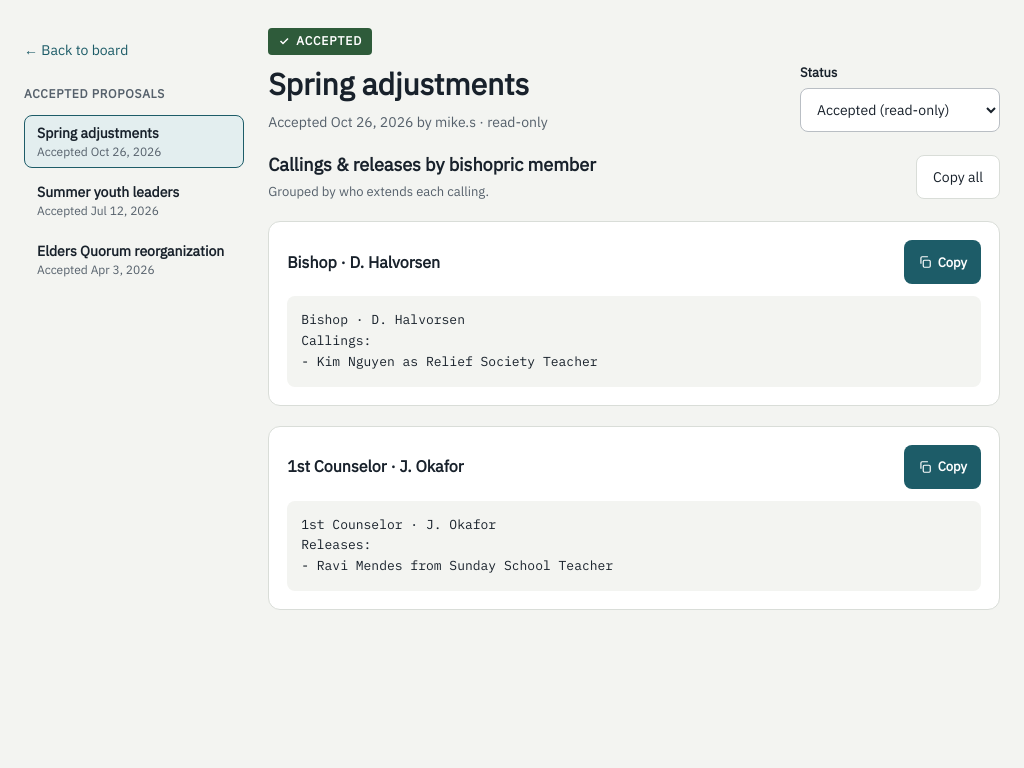
Test: AcceptedView › copy rejection shows the manual-copy alert
The image size is (1024, 768).
Step 1. Click the button "Copy all" → {"x": 958, "y": 177}, box [916,155,1000,199]
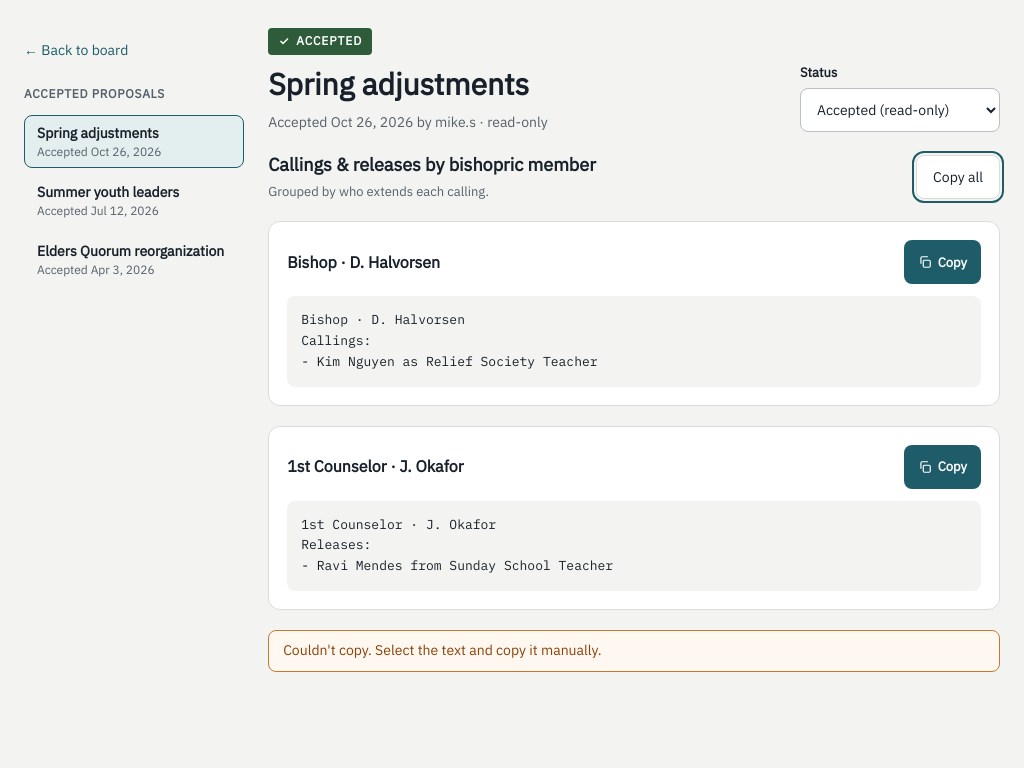
Expected: the message reads "Couldn't copy. Select the text and copy it manually.", [283,641,602,659]
